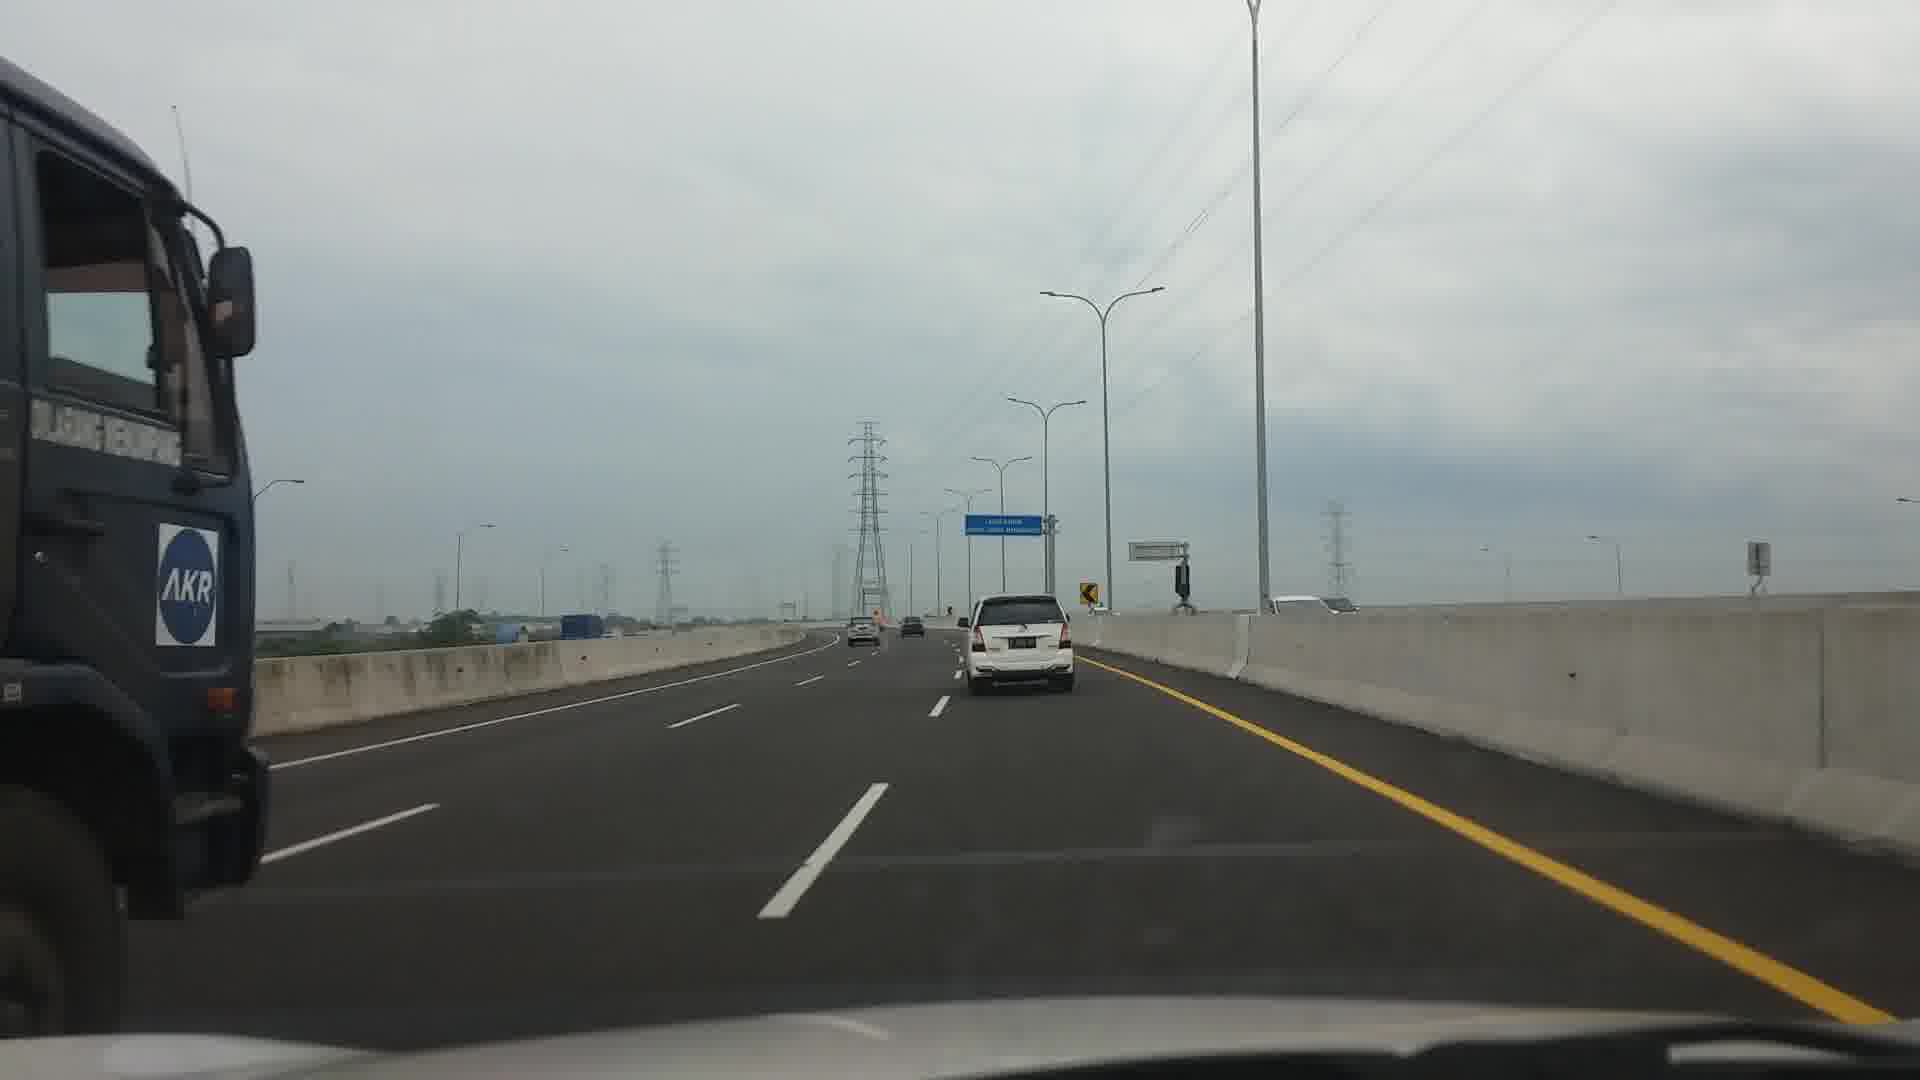plate_positive: (1009, 638, 1036, 647)
